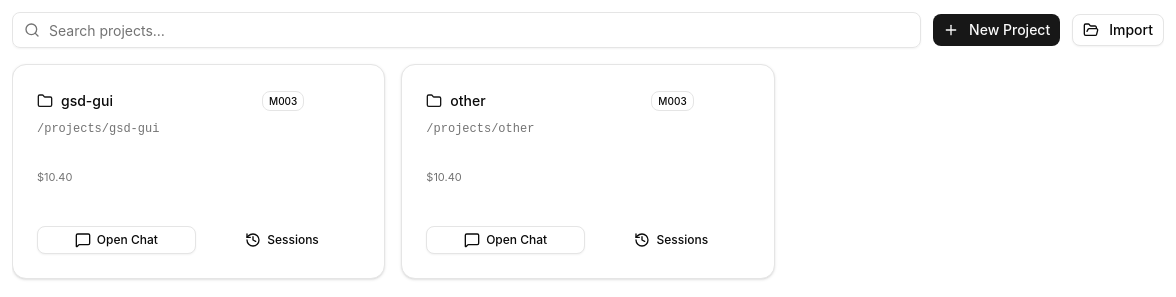
Test: ProjectGallery › filters projects by search term
In the field with placeholder "Search projects…": (467, 30) [12,12,921,48], type "gsd"
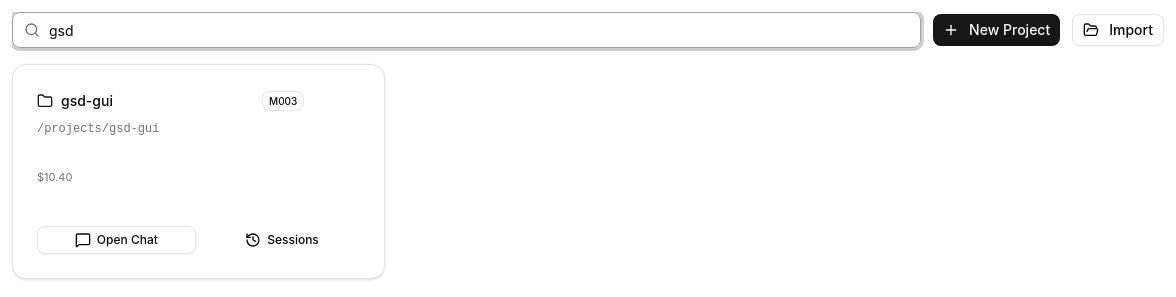
Check: the text "gsd-gui" is shown, box [61,91,113,111]
Check: the text "other" is gone
